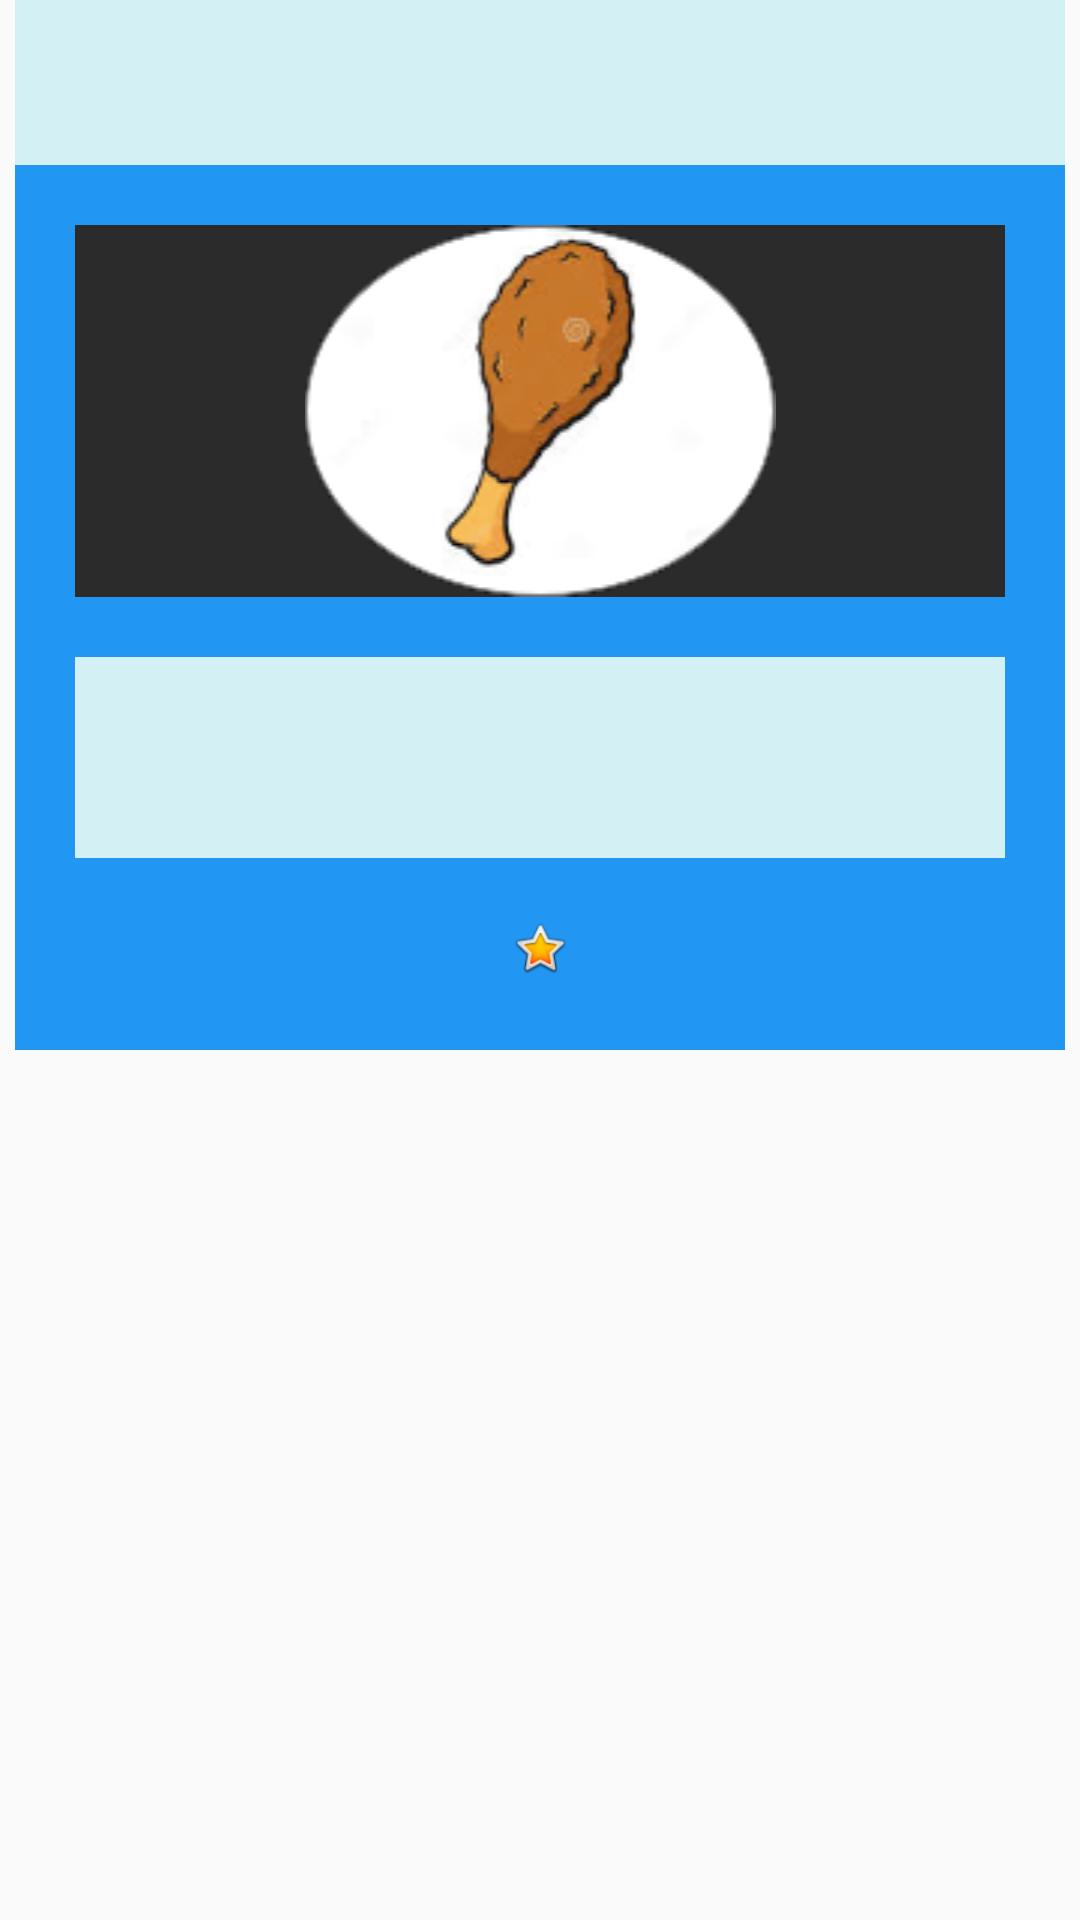

Icon bounding boxes for this 1080 x 1920 phone screenshot, format (x1, y1, x2, y2):
star on: (515, 924, 566, 973)
